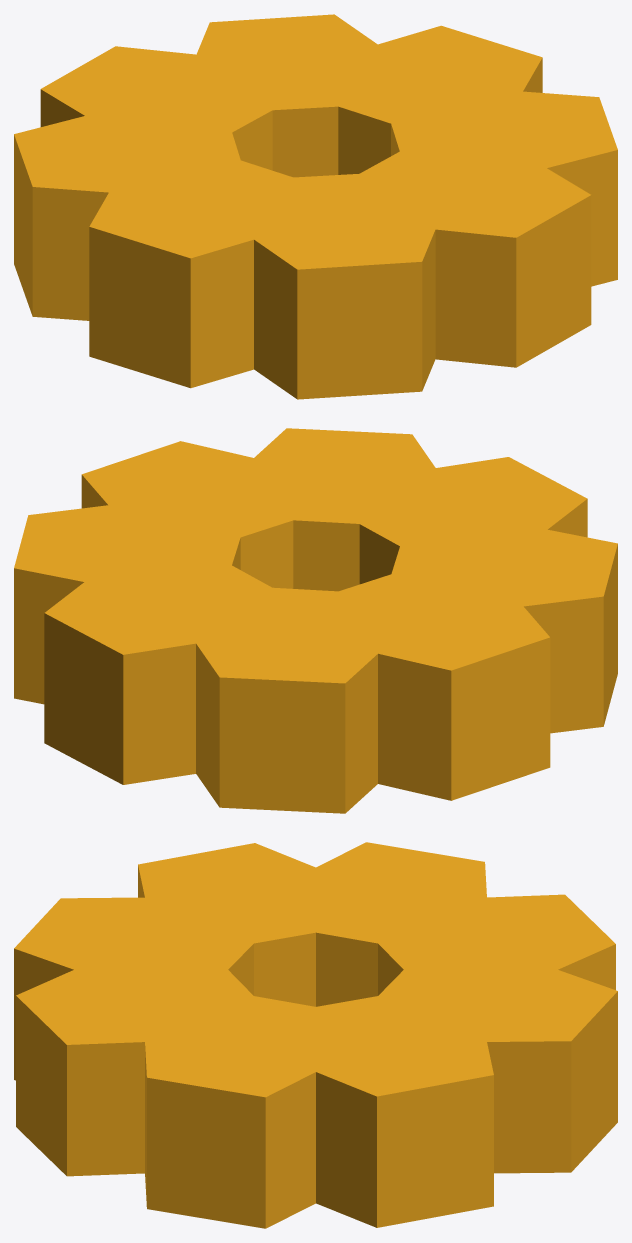
The model's file is Holy_Gear.fbx.
3 views of the same model, one above another, from view 1: azimuth 30°, elevation 25°; view 2: azimuth 150°, elevation 25°; view 3: azimuth 270°, elevation 25° (orthographic).
Visible parts, largest first — view 1: Holy_Gear; view 2: Holy_Gear; view 3: Holy_Gear.
Boxes of the visible parts, x1,y1,x2,y2 form: Holy_Gear: (14,14,617,399); Holy_Gear: (14,428,617,813); Holy_Gear: (14,842,617,1228).
Size of the model in its own units: 0.7497 by 0.18 by 0.7497.
